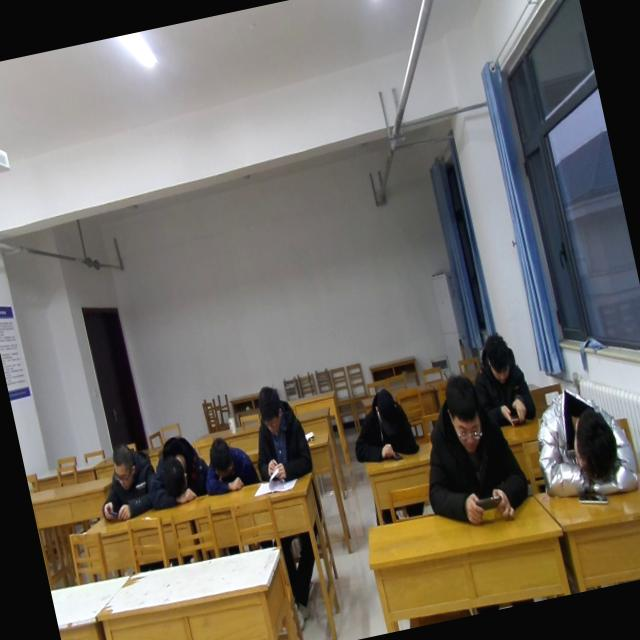bow: (523, 375, 640, 511), (84, 429, 165, 527), (136, 425, 216, 516), (341, 381, 420, 469), (195, 426, 262, 500)
down: (436, 368, 491, 457), (476, 328, 516, 390), (252, 379, 290, 436), (105, 437, 139, 492), (366, 379, 401, 432)
sit: (403, 362, 538, 537), (458, 324, 540, 438), (238, 379, 316, 488)
